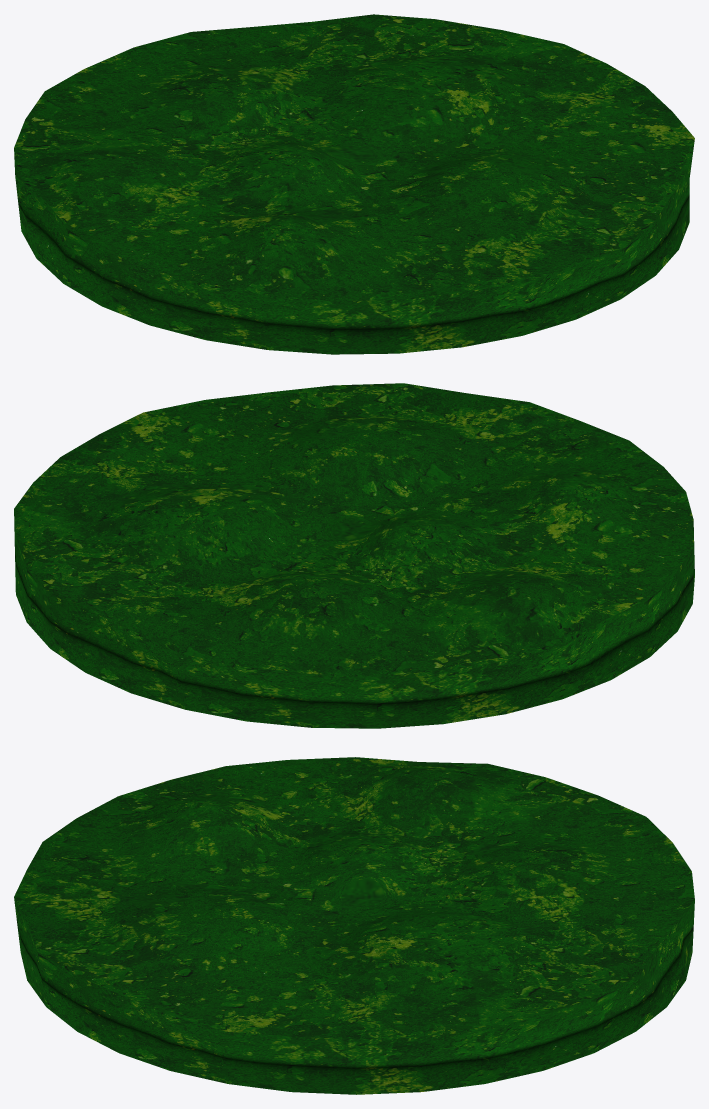
The model's file is Forest Base.fbx.
3 views of the same model, one above another, from view 1: azimuth 30°, elevation 25°; view 2: azimuth 150°, elevation 25°; view 3: azimuth 270°, elevation 25° (orthographic).
Parts seen in each view (by area): view 1: Forest Base; view 2: Forest Base; view 3: Forest Base.
Part boxes in pixels (x1=…): Forest Base: x1=14, y1=14, x2=694, y2=354; Forest Base: x1=14, y1=383, x2=694, y2=728; Forest Base: x1=14, y1=757, x2=694, y2=1094.
Bounding box in the file's own units: 324 × 41.3 × 328.
1 material, 1 textured.
